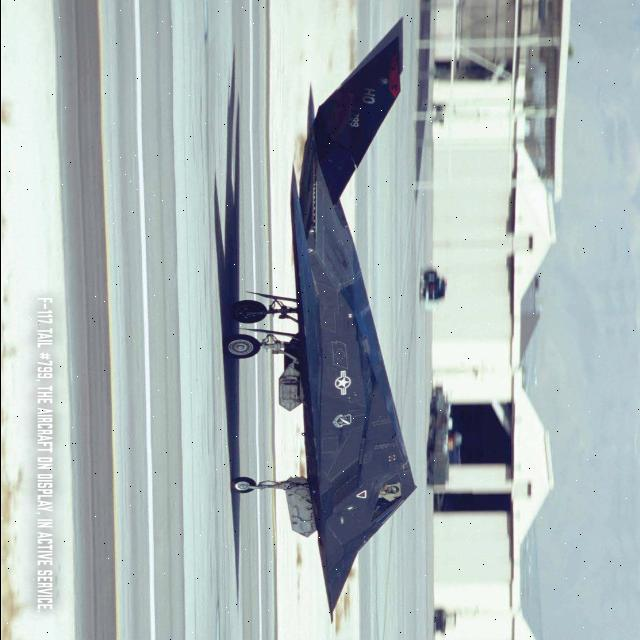F117: (202, 12, 484, 632)
